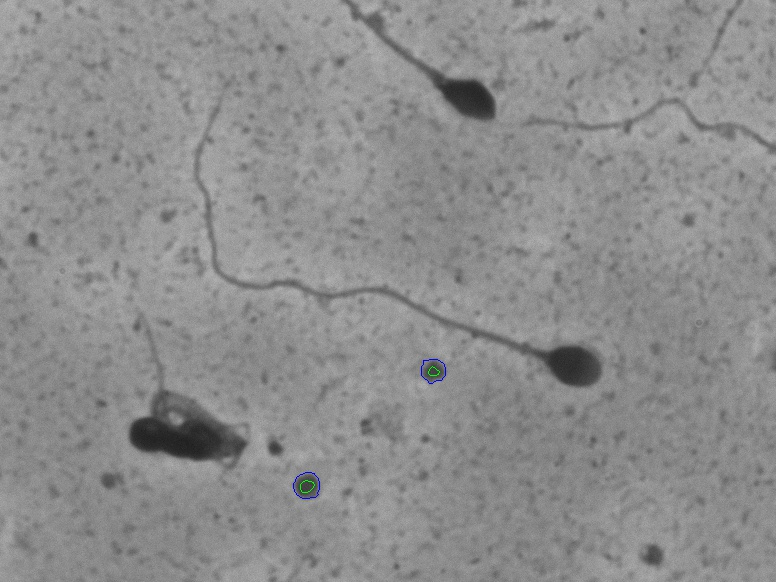Abnormal: (85, 293, 256, 505), (343, 7, 535, 140)
Normal: (184, 68, 616, 401)
